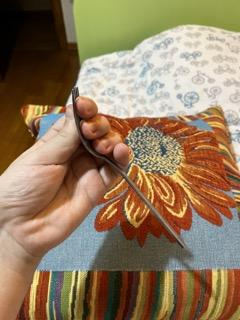fork: (69, 84, 189, 252)
